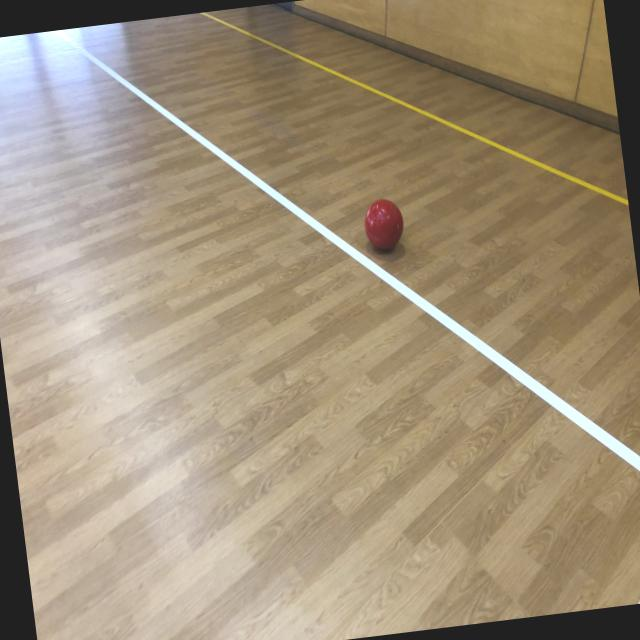red_ball: (362, 196, 406, 257)
